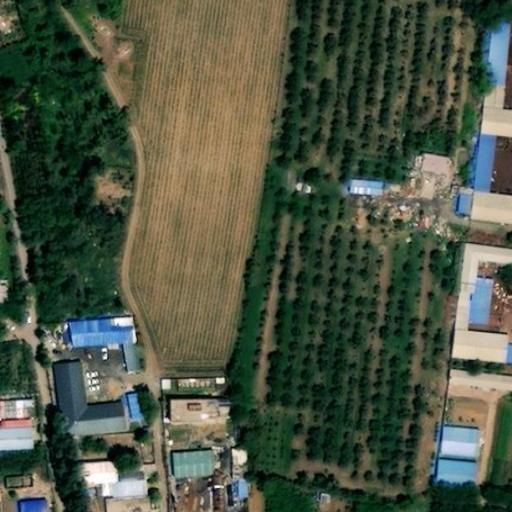building: (458, 254, 512, 339), (45, 329, 144, 364), (475, 151, 512, 235), (484, 35, 512, 122), (85, 475, 149, 512), (453, 337, 512, 377), (436, 472, 480, 507), (172, 405, 233, 430), (454, 379, 512, 404), (443, 438, 485, 469), (347, 190, 405, 212), (481, 120, 512, 153), (179, 471, 216, 497), (0, 439, 38, 464), (0, 414, 35, 441), (172, 372, 222, 387), (450, 186, 473, 215), (226, 443, 246, 474), (423, 167, 451, 188), (226, 476, 247, 501), (15, 496, 47, 512), (0, 469, 30, 486), (129, 406, 147, 433), (292, 175, 314, 195), (312, 487, 330, 508), (0, 277, 12, 302), (157, 372, 172, 388)
